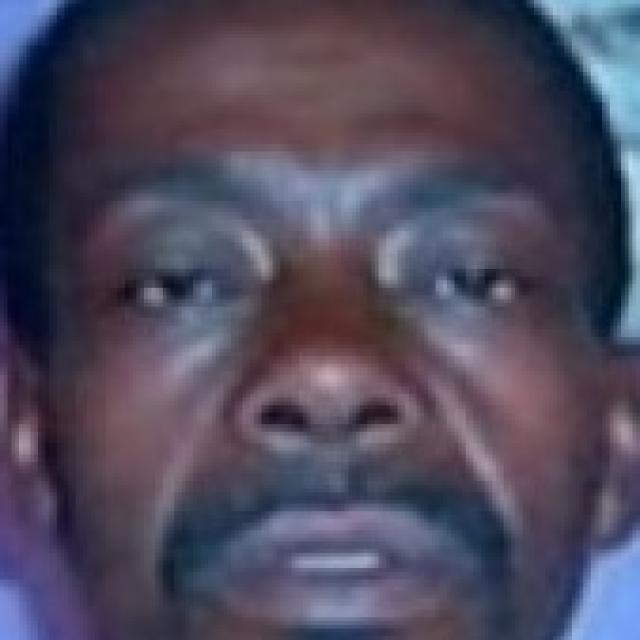Depress: (44, 2, 608, 636)
